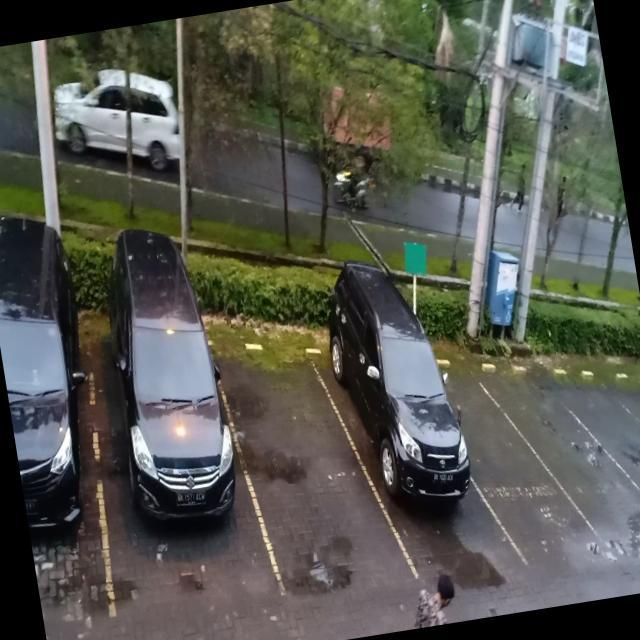empty: (222, 318, 380, 599), (454, 338, 552, 568), (520, 350, 615, 548), (589, 365, 640, 519)
occupied: (65, 270, 272, 612), (334, 286, 490, 582), (0, 282, 130, 619)
